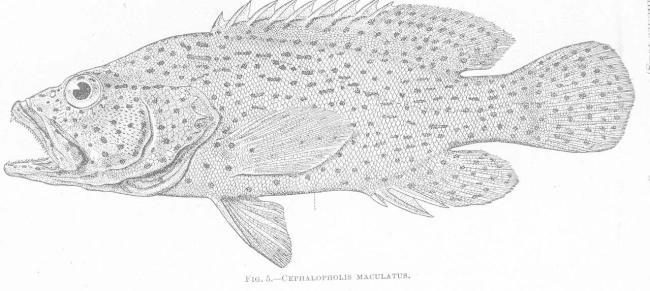fish: (7, 1, 635, 267)
